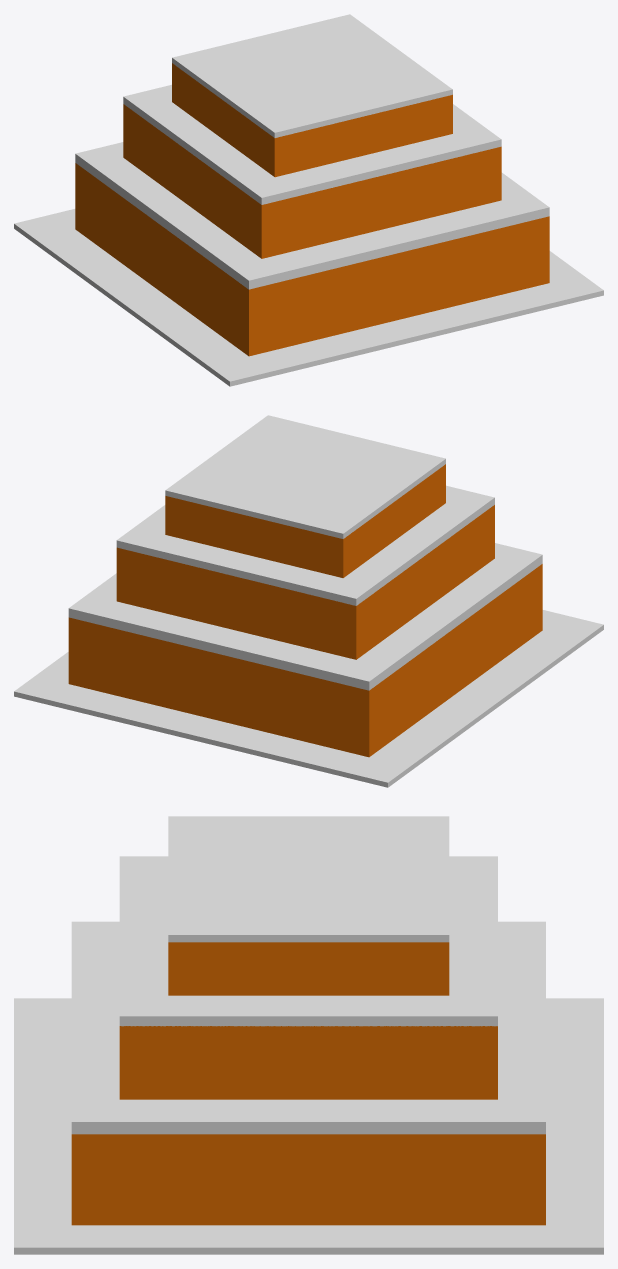
Rendered from CAKE_C_3L_RENAME.glb.
The picture shows the model from 3 angles, top to bottom: view 1: azimuth 30°, elevation 25°; view 2: azimuth 150°, elevation 25°; view 3: azimuth 270°, elevation 25°; orthographic projection. The views are drawn at different scales.
Parts seen in each view (by area): view 1: BATTER.002, BATTER.001, CREAM, PLATE, CREAM.002, CREAM.001, BATTER; view 2: BATTER.002, BATTER.001, CREAM, PLATE, CREAM.002, CREAM.001, BATTER; view 3: PLATE, BATTER.002, CREAM, CREAM.002, BATTER.001, CREAM.001, BATTER.
Boxes of the visible parts, x1,y1,x2,y2 form: BATTER.002: [75, 163, 549, 356]; BATTER.001: [123, 104, 501, 258]; CREAM: [172, 14, 452, 137]; PLATE: [14, 209, 603, 386]; CREAM.002: [75, 142, 549, 289]; CREAM.001: [123, 84, 501, 204]; BATTER: [172, 63, 452, 177]; BATTER.002: [68, 564, 542, 757]; BATTER.001: [116, 505, 494, 659]; CREAM: [165, 415, 445, 538]; PLATE: [14, 610, 603, 787]; CREAM.002: [68, 543, 542, 690]; CREAM.001: [116, 485, 494, 605]; BATTER: [165, 464, 445, 577]; PLATE: [14, 998, 603, 1254]; BATTER.002: [71, 1134, 545, 1225]; CREAM: [168, 816, 449, 942]; CREAM.002: [71, 921, 545, 1134]; BATTER.001: [119, 1026, 497, 1099]; CREAM.001: [119, 856, 497, 1026]; BATTER: [168, 942, 449, 995].
Size of the model in its own units: 2 by 0.9593 by 2.
